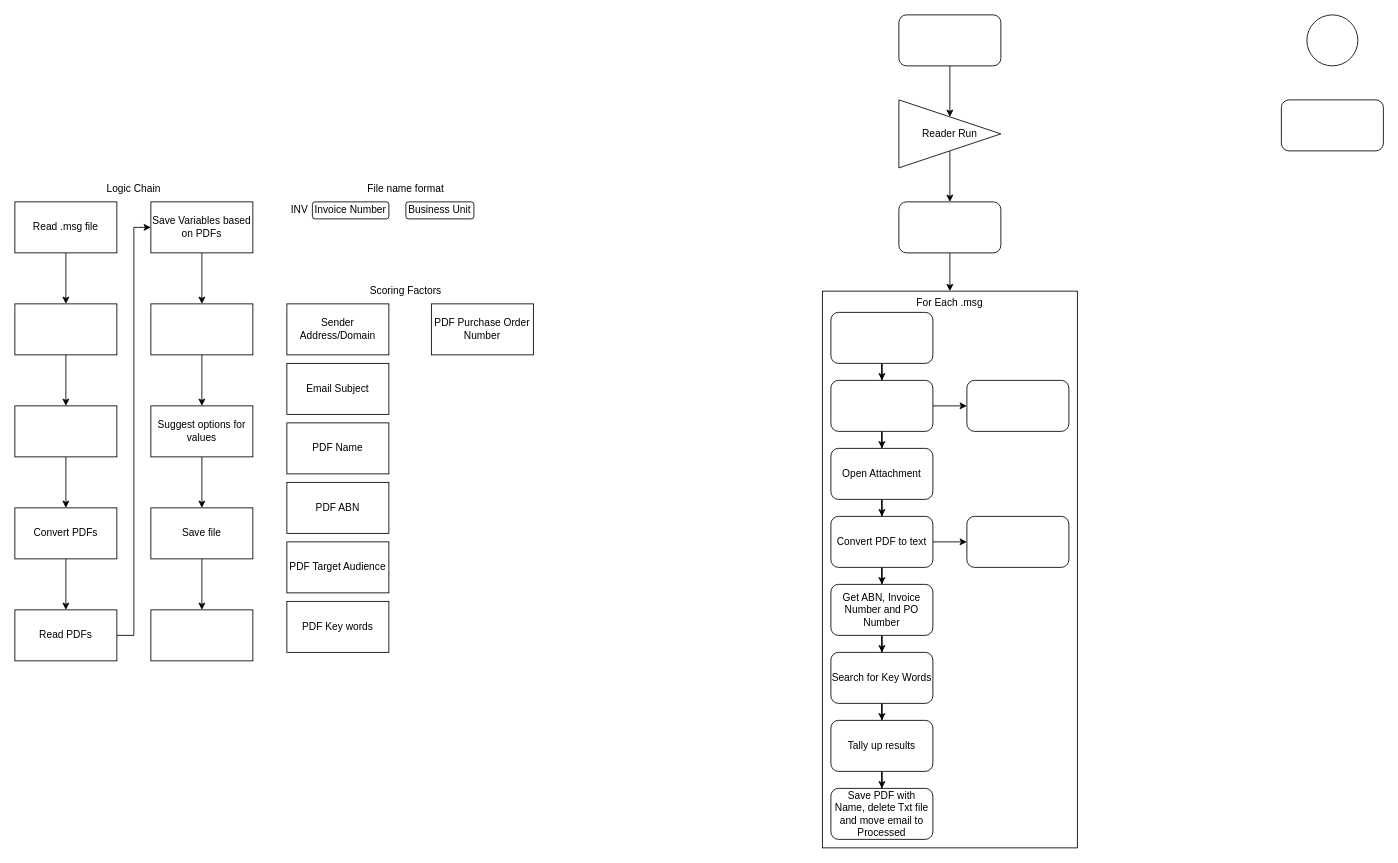
Some shapes in this 1398 by 863 pixel diagram are drawn without their labels. The shapes that lost their labels are listed below. From the top down, each one's centre as x and y in pixels, then its label:
At pixel 949 40: "Script Setup".
At pixel 1332 40: "Get Invoice Number".
At pixel 1332 125: "Read CSV Files".
At pixel 949 227: "Get .msg File List".
At pixel 65 329: "Save Variables based on msg".
At pixel 201 329: "Compare Variables to facts table".
At pixel 881 337: "Open under Outlook Template".
At pixel 881 405: "Check number of Attachments".
At pixel 1017 405: "If not exactly one PDF, move email to UnableToProcess".
At pixel 65 431: "Export attachments".
At pixel 1017 541: "If no text, delete PDF and move email to UnableToProcess".
At pixel 201 635: "Clean up".
